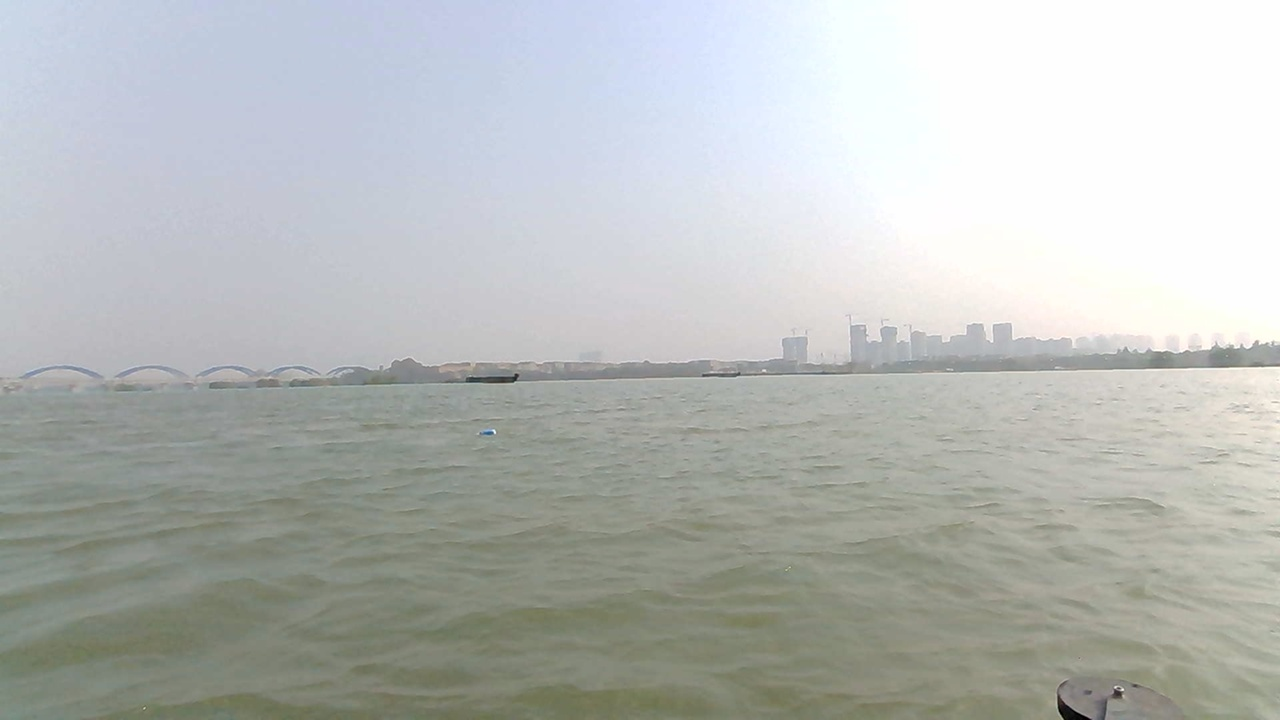bottle: (474, 426, 504, 441)
